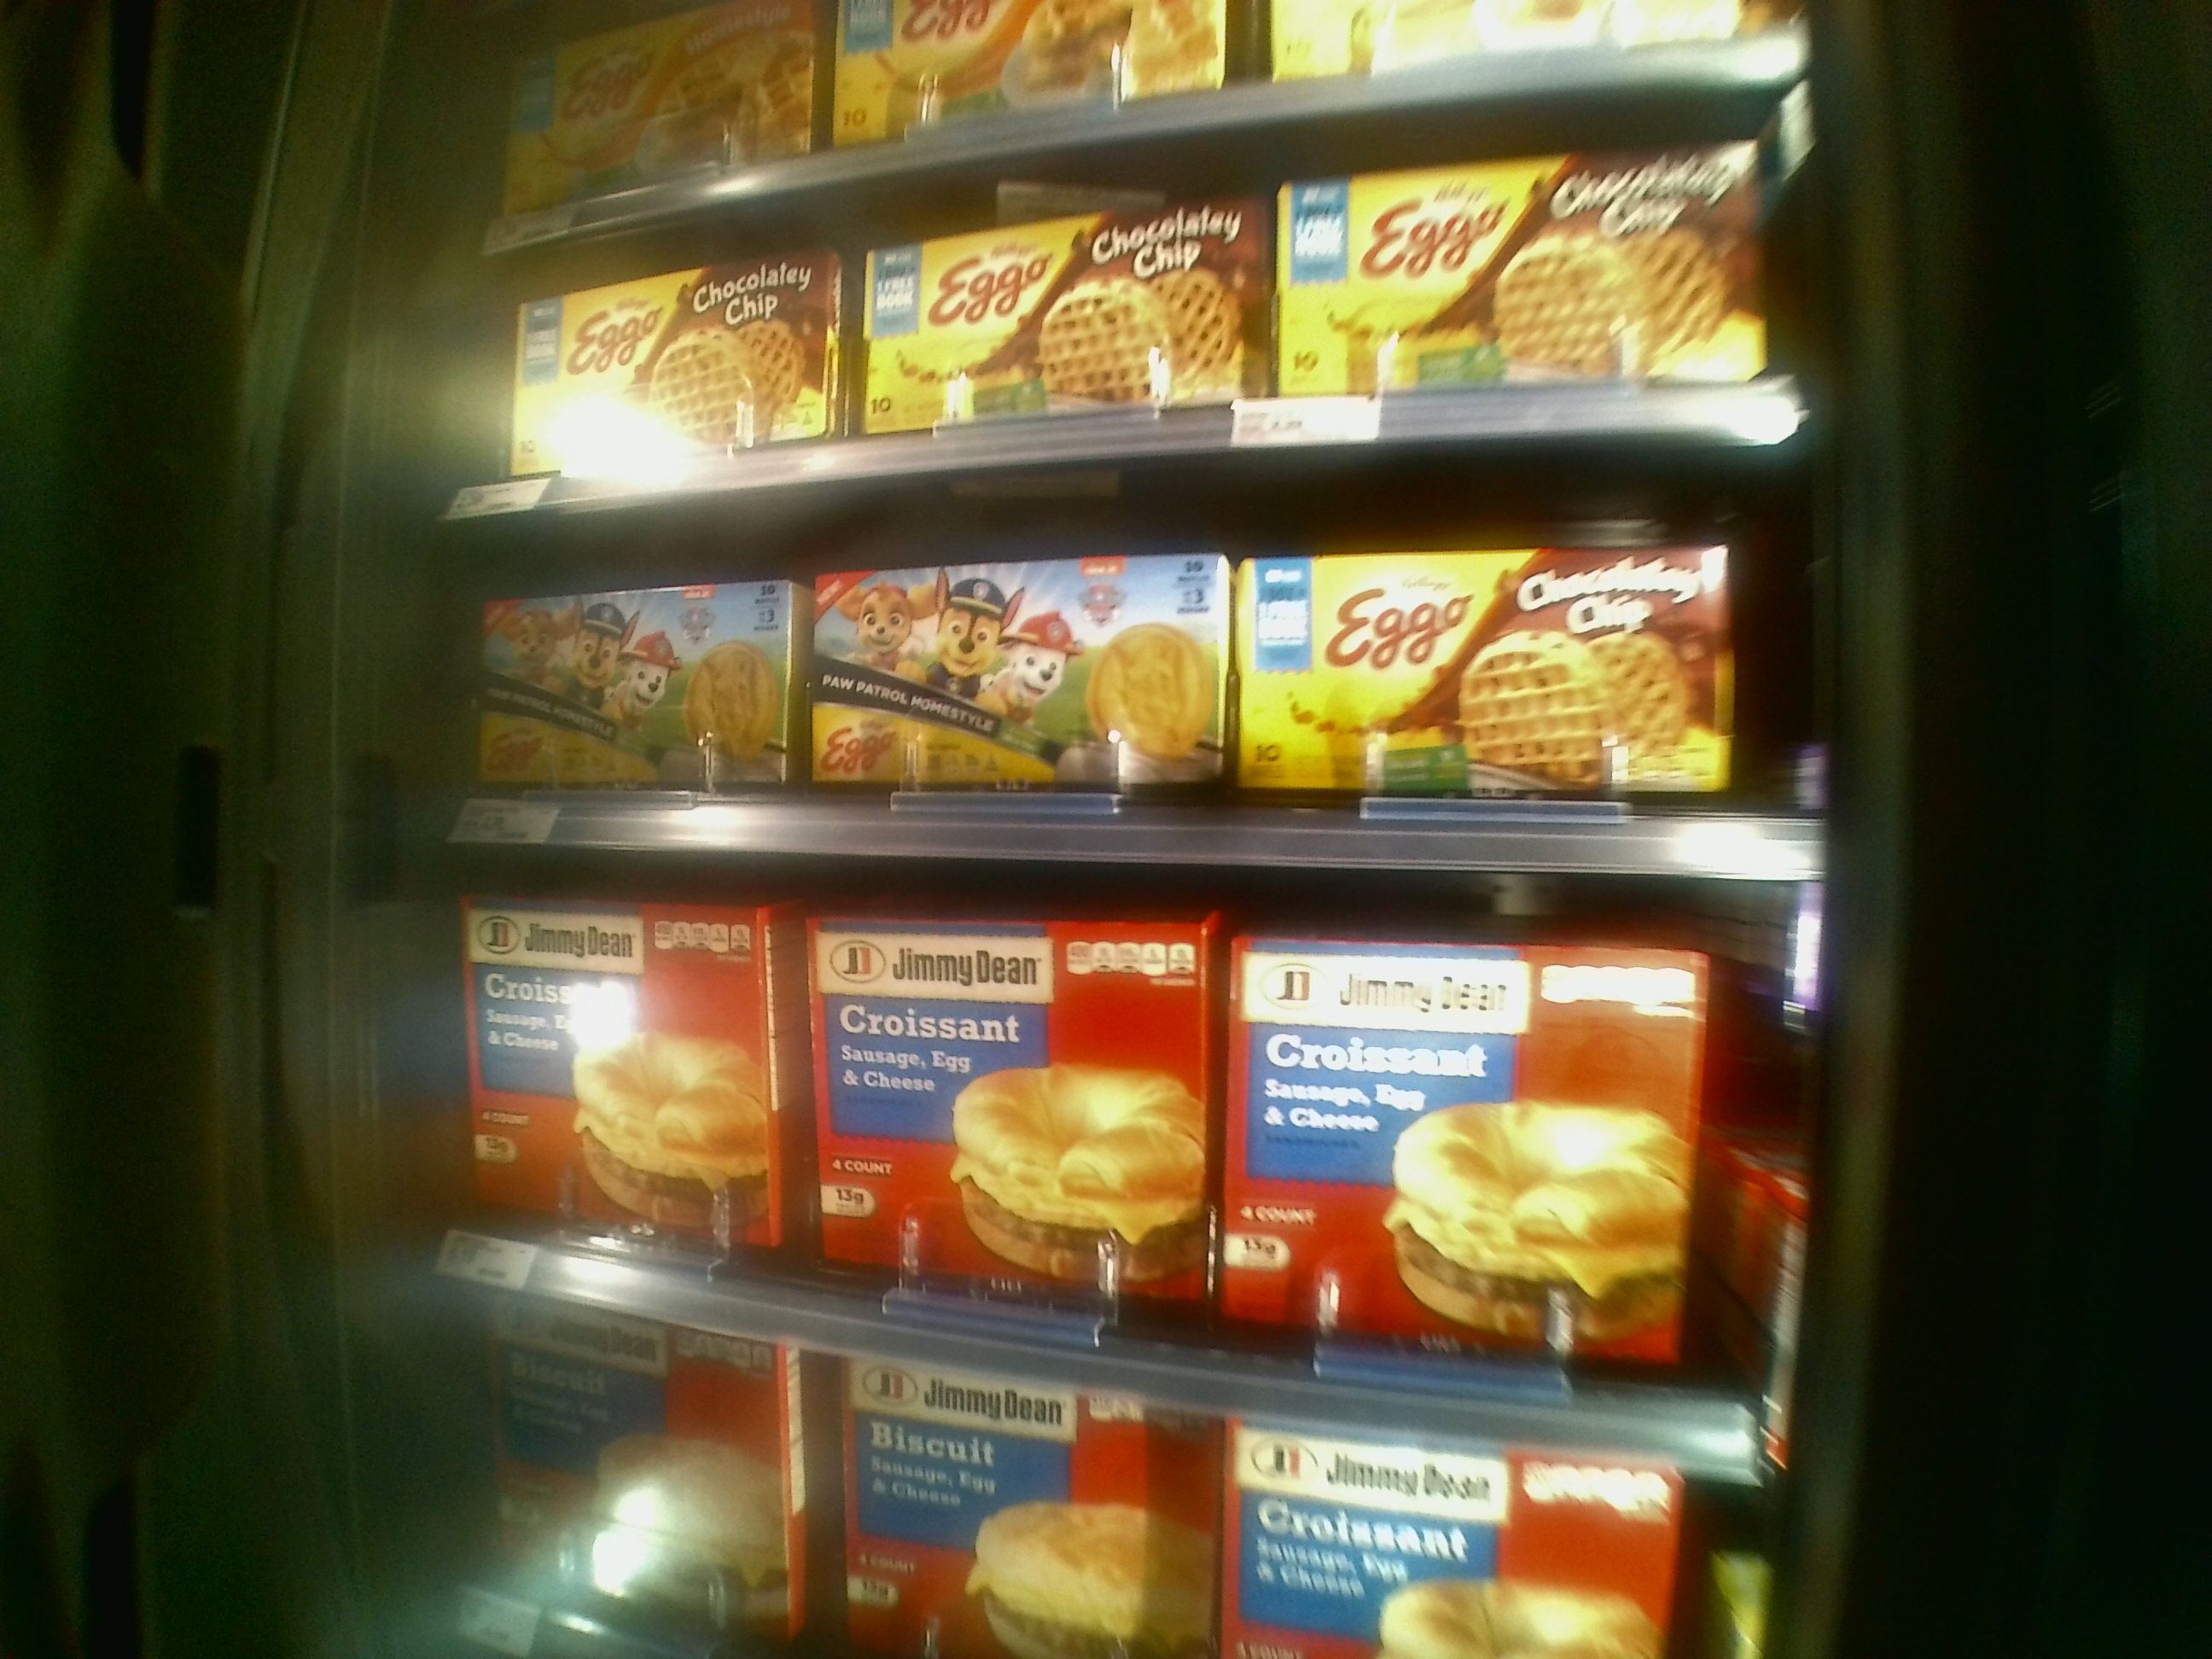shelf: (451, 425, 1827, 878)
